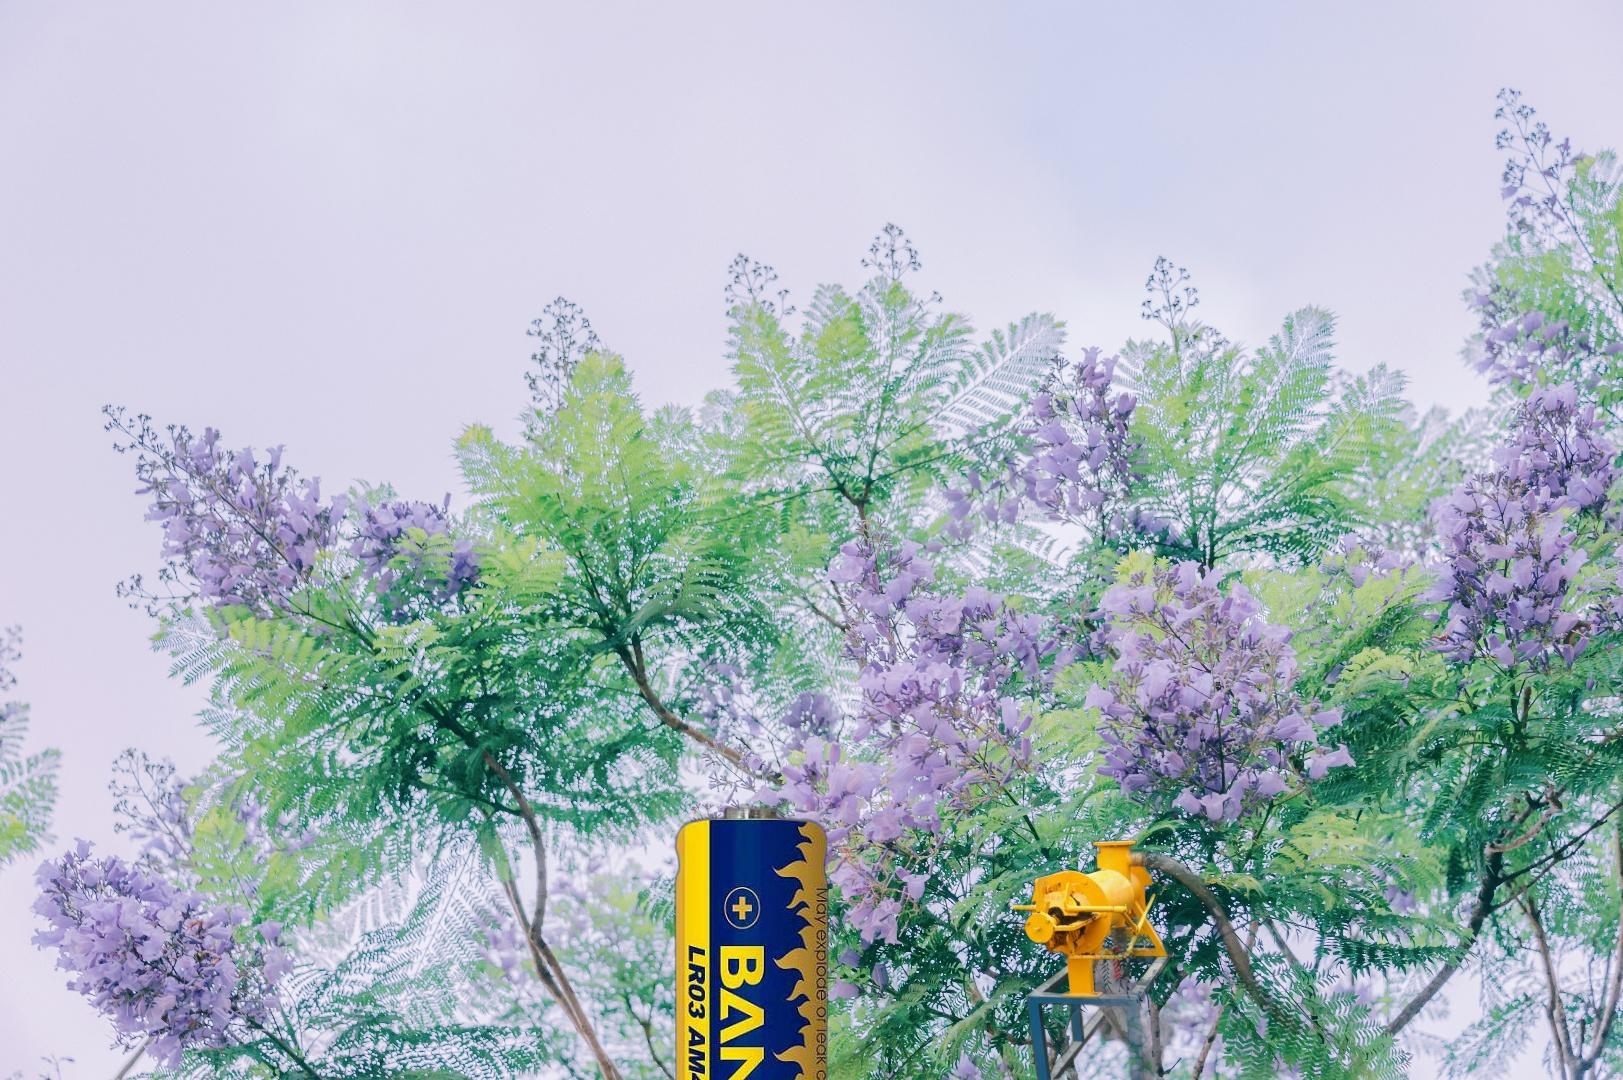battery: (672, 797, 831, 1080)
biological: (1013, 840, 1337, 1080)
